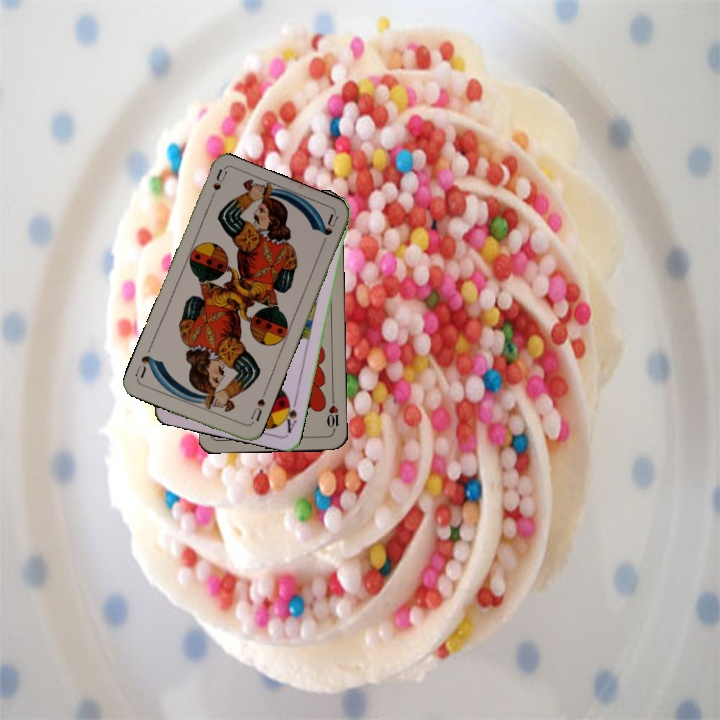H10: (323, 394, 341, 434)
SA: (279, 394, 300, 436)
SU: (205, 166, 230, 206), (246, 394, 268, 427)
